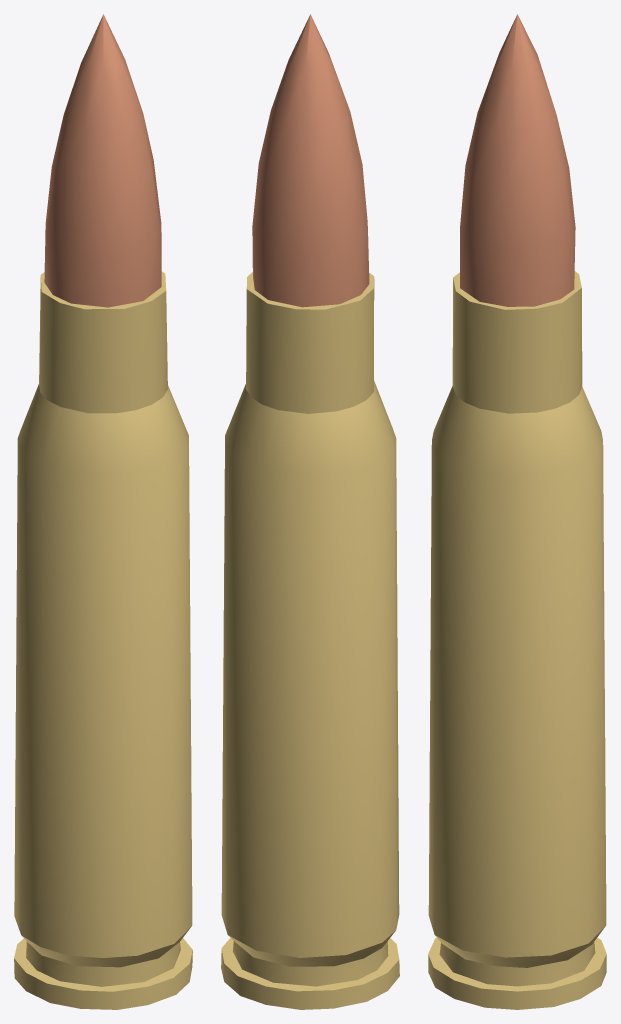
Rendered from 7,62x51_NATO.fbx.
3 views of the same model, side by side, from view 1: azimuth 30°, elevation 25°; view 2: azimuth 150°, elevation 25°; view 3: azimuth 270°, elevation 25° (orthographic).
Parts seen in each view (by area): view 1: 7,62x51_NATO; view 2: 7,62x51_NATO; view 3: 7,62x51_NATO.
Boxes of the visible parts, bbox=[...] form: 7,62x51_NATO: bbox=[14, 14, 192, 1009]; 7,62x51_NATO: bbox=[221, 14, 399, 1009]; 7,62x51_NATO: bbox=[428, 14, 606, 1009].
Size of the model in its own units: 1.2 by 7.11 by 1.2.
